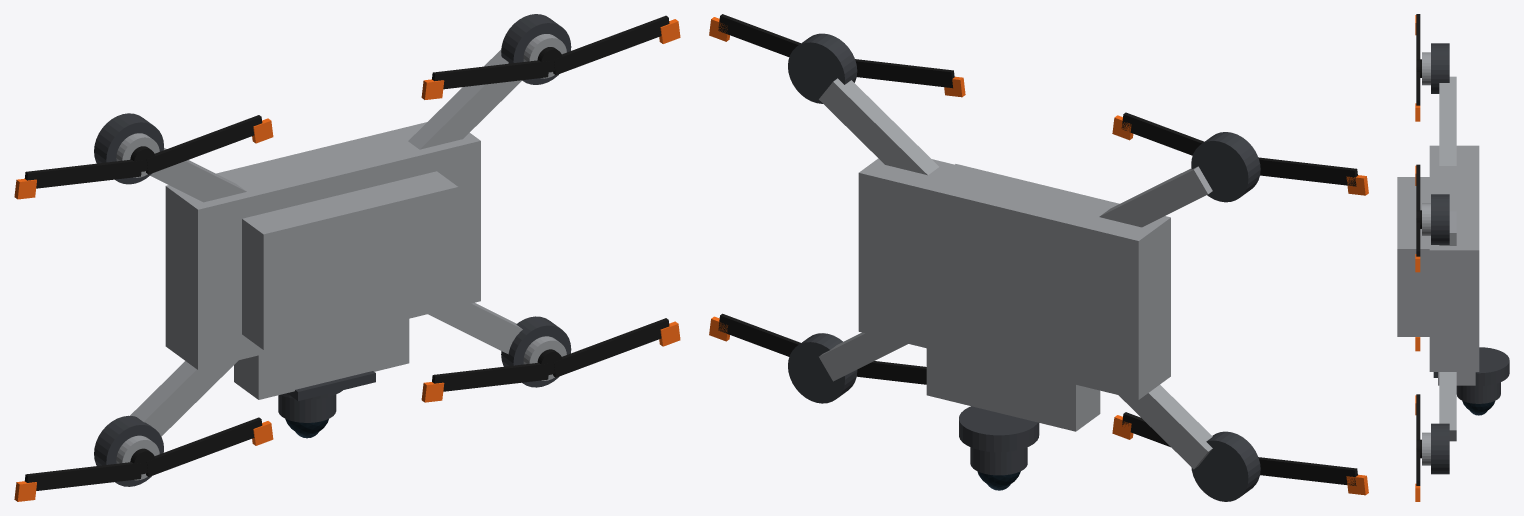
The model's file is drone.glb.
3 renders of one model, left to right at view 1: azimuth 30°, elevation 25°; view 2: azimuth 150°, elevation 25°; view 3: azimuth 270°, elevation 25°, orthographic. The views are drawn at different scales.
Parts seen in each view (by area): view 1: Upper_Body, Main_Body, Nose, Arm_RR, Arm_FL, Arm_FR, Prop_Blade_FR_1, Prop_Blade_FL_1, Prop_Blade_RL_1, Prop_Blade_RR_1, Arm_RL, Prop_Blade_RR_-1 (+12 smaller); view 2: Main_Body, Nose, Arm_RR, Motor_Collar_RL, Motor_Collar_FL, Motor_Collar_RR, Arm_FL, Arm_RL, Gimbal_Ring, Motor_Collar_FR, Arm_FR, Prop_Blade_RR_-1 (+7 smaller); view 3: Main_Body, Upper_Body, Arm_RL, Gimbal_Ring, Arm_FR, Motor_Collar_FR, Motor_Collar_RR, Motor_Collar_RL, Camera_Body, Nose, Motor_Top_FR, Motor_Top_RL (+9 smaller).
Part boxes in pixels (left/top/right/bottom): Upper_Body: left=242, top=171, right=458, bottom=349; Main_Body: left=165, top=122, right=480, bottom=369; Nose: left=234, top=319, right=409, bottom=399; Arm_RR: left=408, top=49, right=521, bottom=149; Arm_FL: left=130, top=360, right=238, bottom=436; Arm_FR: left=428, top=302, right=522, bottom=354; Prop_Blade_FR_1: left=553, top=318, right=669, bottom=377; Prop_Blade_FL_1: left=146, top=417, right=262, bottom=476; Prop_Blade_RL_1: left=146, top=115, right=262, bottom=174; Prop_Blade_RR_1: left=553, top=15, right=669, bottom=74; Arm_RL: left=150, top=148, right=246, bottom=202; Prop_Blade_RR_-1: left=432, top=60, right=549, bottom=89; Main_Body: left=858, top=158, right=1170, bottom=399; Nose: left=926, top=348, right=1100, bottom=431; Arm_RR: left=819, top=78, right=938, bottom=175; Motor_Collar_RL: left=1191, top=132, right=1260, bottom=202; Motor_Collar_FL: left=1191, top=431, right=1260, bottom=501; Motor_Collar_RR: left=788, top=33, right=857, bottom=103; Arm_FL: left=1118, top=385, right=1212, bottom=469; Arm_RL: left=1099, top=166, right=1212, bottom=227; Gimbal_Ring: left=959, top=406, right=1039, bottom=452; Motor_Collar_FR: left=788, top=333, right=857, bottom=403; Arm_FR: left=819, top=332, right=907, bottom=381; Prop_Blade_RR_-1: left=855, top=59, right=954, bottom=88; Main_Body: left=1429, top=145, right=1479, bottom=371; Upper_Body: left=1397, top=177, right=1429, bottom=336; Arm_RL: left=1439, top=76, right=1456, bottom=165; Gimbal_Ring: left=1472, top=347, right=1509, bottom=386; Arm_FR: left=1439, top=372, right=1456, bottom=441; Motor_Collar_FR: left=1431, top=423, right=1449, bottom=474; Motor_Collar_RR: left=1431, top=194, right=1449, bottom=244; Motor_Collar_RL: left=1431, top=43, right=1449, bottom=93; Camera_Body: left=1456, top=382, right=1500, bottom=403; Nose: left=1438, top=372, right=1475, bottom=385; Motor_Top_FR: left=1422, top=432, right=1430, bottom=465; Motor_Top_RL: left=1422, top=52, right=1430, bottom=85.
Bounding box in the file's own units: 5.27 × 2.94 × 1.02.
